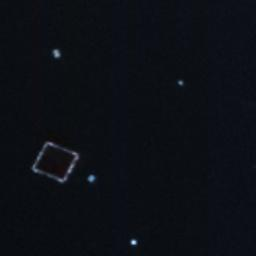square_solid: (28, 137, 83, 187)
